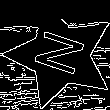N_E: (29, 28, 92, 82)
